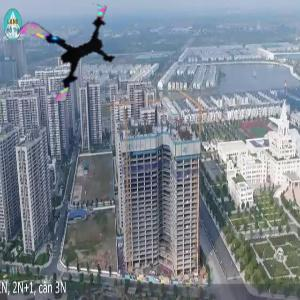drone: (23, 8, 122, 107)
